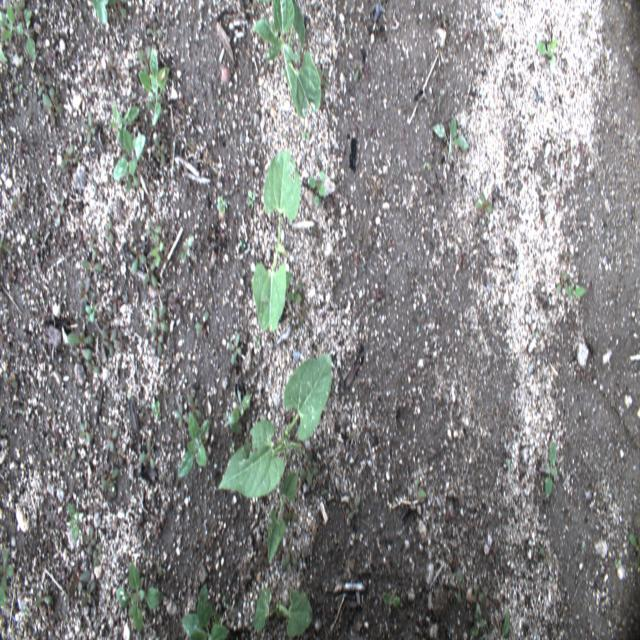crop: (218, 354, 332, 500), (252, 149, 302, 332), (252, 0, 322, 121), (266, 466, 300, 565), (252, 588, 313, 636)
weed: (114, 560, 165, 634), (180, 578, 230, 640), (137, 47, 170, 127), (178, 412, 211, 480), (112, 125, 146, 181), (432, 118, 469, 163), (386, 474, 428, 510), (110, 100, 140, 144), (229, 383, 253, 426), (228, 416, 255, 452), (0, 2, 24, 41), (67, 329, 95, 362), (75, 275, 96, 318), (42, 85, 63, 127), (536, 37, 558, 76), (66, 567, 92, 600), (80, 247, 103, 283), (23, 6, 38, 61), (58, 144, 82, 178), (545, 444, 558, 498), (0, 549, 16, 592), (309, 168, 326, 208), (101, 466, 120, 501), (150, 229, 167, 268), (122, 160, 142, 193), (301, 451, 319, 487), (137, 44, 156, 78), (149, 304, 169, 336), (68, 503, 84, 542), (226, 331, 243, 367), (448, 569, 464, 605), (382, 586, 400, 618), (138, 438, 156, 470), (130, 244, 148, 276), (470, 581, 484, 622), (82, 110, 98, 144), (51, 194, 67, 228), (103, 422, 120, 454), (172, 402, 191, 429), (142, 261, 159, 291), (145, 216, 167, 239), (474, 192, 494, 217), (194, 309, 210, 340), (187, 396, 203, 426), (257, 538, 273, 567), (101, 327, 116, 357), (80, 580, 96, 608), (92, 0, 109, 26), (34, 588, 55, 609), (92, 461, 111, 484), (628, 532, 639, 571), (150, 328, 164, 358), (107, 0, 128, 20), (113, 328, 129, 354), (556, 269, 570, 298), (181, 233, 195, 262), (82, 525, 96, 554), (79, 418, 93, 446), (282, 542, 297, 568), (105, 52, 118, 81), (564, 280, 586, 297), (154, 136, 166, 167), (37, 71, 51, 97), (84, 356, 102, 376), (80, 67, 94, 92), (131, 512, 145, 537), (1, 368, 18, 388), (348, 496, 361, 522), (0, 232, 13, 258), (369, 286, 383, 310), (146, 21, 162, 42), (317, 67, 331, 90), (285, 506, 299, 529), (115, 197, 127, 223), (109, 290, 122, 314), (84, 303, 98, 325), (469, 617, 486, 635), (10, 193, 25, 213), (352, 58, 363, 84), (216, 196, 227, 222), (111, 444, 124, 466), (501, 608, 510, 638), (92, 544, 104, 566), (5, 262, 17, 284), (63, 446, 77, 464), (538, 204, 548, 229), (104, 219, 114, 244), (168, 292, 181, 311), (574, 364, 586, 384), (98, 68, 110, 88), (158, 471, 172, 488), (88, 227, 97, 252), (13, 0, 26, 17), (150, 400, 161, 420), (280, 67, 291, 86), (581, 11, 590, 34), (247, 187, 256, 210), (316, 158, 327, 176), (287, 291, 302, 303), (540, 546, 548, 568), (32, 242, 40, 264), (0, 586, 8, 607), (0, 46, 8, 64), (480, 215, 491, 228), (227, 441, 238, 454), (566, 139, 572, 161), (557, 249, 568, 261), (363, 62, 371, 78), (566, 246, 573, 264), (56, 513, 64, 528), (614, 556, 622, 570), (13, 83, 24, 93), (580, 538, 586, 556), (221, 594, 228, 609), (238, 238, 246, 250), (254, 334, 261, 347), (348, 26, 353, 44), (18, 407, 26, 418), (21, 607, 29, 618), (422, 162, 430, 172), (396, 164, 402, 177), (505, 457, 510, 469), (302, 131, 310, 138), (282, 132, 289, 139), (321, 488, 327, 496)
